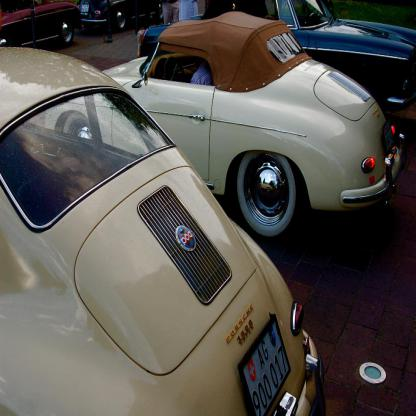Car: (0, 45, 327, 415), (102, 8, 406, 238), (137, 0, 416, 112)
